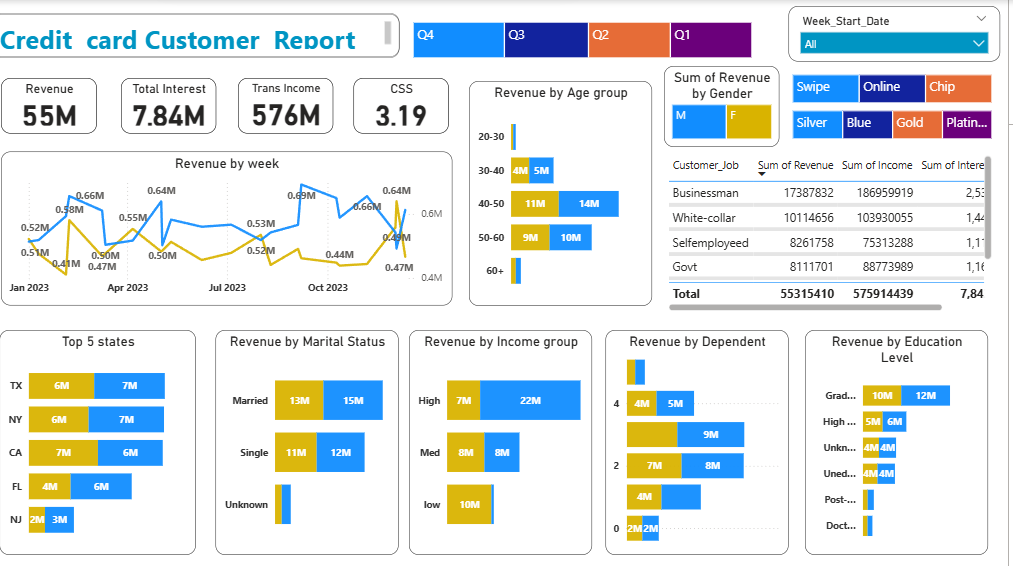

What the dashboard file says about the page in this screenshot:
{"tool":"powerbi","page":{"name":"Page 2","canvas":[1280,720],"ordinal":2},"visuals":[{"type":"textbox","box":[0,17.8,513.3,55.1],"z":0},{"type":"barChart","title":" Revenue by Income group","fields":{"Y":["Sum(credit_card.Revenue)"],"Category":["customer.IncomeGroup"],"Series":["customer.Gender"]},"box":[525.4,415.8,230.6,283.5],"z":1000},{"type":"tableEx","fields":{"Values":["customer.Customer_Job","Sum(credit_card.Revenue)","Sum(customer.Income)","Sum(credit_card.Interest_Earned)"]},"box":[846.6,190.9,417.6,206],"z":2000},{"type":"card","title":"Revenue","fields":{"Values":["Sum(credit_card.Revenue)"]},"box":[11.1,98.6,120.9,70],"z":3000},{"type":"card","title":"Trans Income","fields":{"Values":["Sum(customer.Income)"]},"box":[310,98.3,120,70],"z":4000},{"type":"card","title":"Total Interest","fields":{"Values":["Sum(credit_card.Interest_Earned)"]},"box":[161.7,98.3,120,70],"z":5000},{"type":"card","title":"CSS","fields":{"Values":["Avg(customer.Cust_Satisfaction_Score)"]},"box":[455,98.3,120,70],"z":6000},{"type":"slicer","fields":{"Values":["credit_card.Week_Start_Date"]},"box":[1003.5,7.6,266.5,69.9],"z":7000},{"type":"treemap","fields":{"Group":["credit_card.Qtr"],"Values":["Avg(credit_card.Client_Num)"]},"box":[525.4,22.7,436.5,54.8],"z":8000},{"type":"treemap","fields":{"Values":["Avg(credit_card.Client_Num)"],"Group":["credit_card.Card_Category"]},"box":[1003.5,134.2,260.8,45.4],"z":9000},{"type":"lineChart","title":" Revenue by week","fields":{"Y2":["Sum(credit_card.Revenue)"],"Series":["customer.Gender"],"Category":["credit_card.Week_Start_Date.Variation.Date Hierarchy.Year","credit_card.Week_Start_Date.Variation.Date Hierarchy.Month","credit_card.Week_Start_Date.Variation.Date Hierarchy.Day"]},"box":[11.3,191.1,568.3,194.3],"z":10000},{"type":"treemap","fields":{"Group":["customer.Gender"],"Values":["Sum(credit_card.Revenue)"]},"box":[846.6,83.2,145.5,102],"z":11000},{"type":"barChart","title":" Revenue by Age group","fields":{"Y":["Sum(credit_card.Revenue)"],"Category":["customer.Age Group"],"Series":["customer.Gender"]},"box":[600.9,102,230.6,283.5],"z":12000},{"type":"barChart","title":" Revenue by Dependent ","fields":{"Y":["Sum(credit_card.Revenue)"],"Category":["customer.Dependent_Count"],"Series":["customer.Gender"]},"box":[772.9,415.8,230.6,283.5],"z":13000},{"type":"barChart","title":" Revenue by Education Level","fields":{"Y":["Sum(credit_card.Revenue)"],"Category":["customer.Education_Level"],"Series":["customer.Gender"]},"box":[1024.3,415.8,230.6,283.5],"z":14000},{"type":"barChart","title":"Top 5 states","fields":{"Y":["Sum(credit_card.Revenue)"],"Category":["customer.state_cd"],"Series":["customer.Gender"]},"box":[9.4,415.8,247.6,283.5],"z":15000},{"type":"barChart","title":" Revenue by Marital Status","fields":{"Y":["Sum(credit_card.Revenue)"],"Category":["customer.Marital_Status"],"Series":["customer.Gender"]},"box":[281.6,415.8,230.6,283.5],"z":16000},{"type":"treemap","fields":{"Values":["Avg(credit_card.Client_Num)"],"Group":["credit_card.Use Chip"]},"box":[1003.5,88.8,260.8,45.4],"z":17000}]}

Visuals, with their boxes in screenshot pixels (x1, y1, x2, y2), scaled from the page's 1280x720 canvas onto the 1013x566 screenshot:
textbox: select_region(0, 14, 406, 57)
" Revenue by Income group" barChart: select_region(416, 327, 598, 550)
tableEx - customer.Customer_Job x Sum(credit_card.Revenue): select_region(670, 150, 1000, 312)
"Revenue" card: select_region(9, 78, 104, 133)
"Trans Income" card: select_region(245, 77, 340, 132)
"Total Interest" card: select_region(128, 77, 223, 132)
"CSS" card: select_region(360, 77, 455, 132)
slicer - credit_card.Week_Start_Date: select_region(794, 6, 1005, 61)
treemap - credit_card.Qtr x Avg(credit_card.Client_Num): select_region(416, 18, 761, 61)
treemap - Avg(credit_card.Client_Num) x credit_card.Card_Category: select_region(794, 105, 1001, 141)
" Revenue by week" lineChart: select_region(9, 150, 459, 303)
treemap - customer.Gender x Sum(credit_card.Revenue): select_region(670, 65, 785, 146)
" Revenue by Age group" barChart: select_region(476, 80, 658, 303)
" Revenue by Dependent " barChart: select_region(612, 327, 794, 550)
" Revenue by Education Level" barChart: select_region(811, 327, 993, 550)
"Top 5 states" barChart: select_region(7, 327, 203, 550)
" Revenue by Marital Status" barChart: select_region(223, 327, 405, 550)
treemap - Avg(credit_card.Client_Num) x credit_card.Use Chip: select_region(794, 70, 1001, 105)
